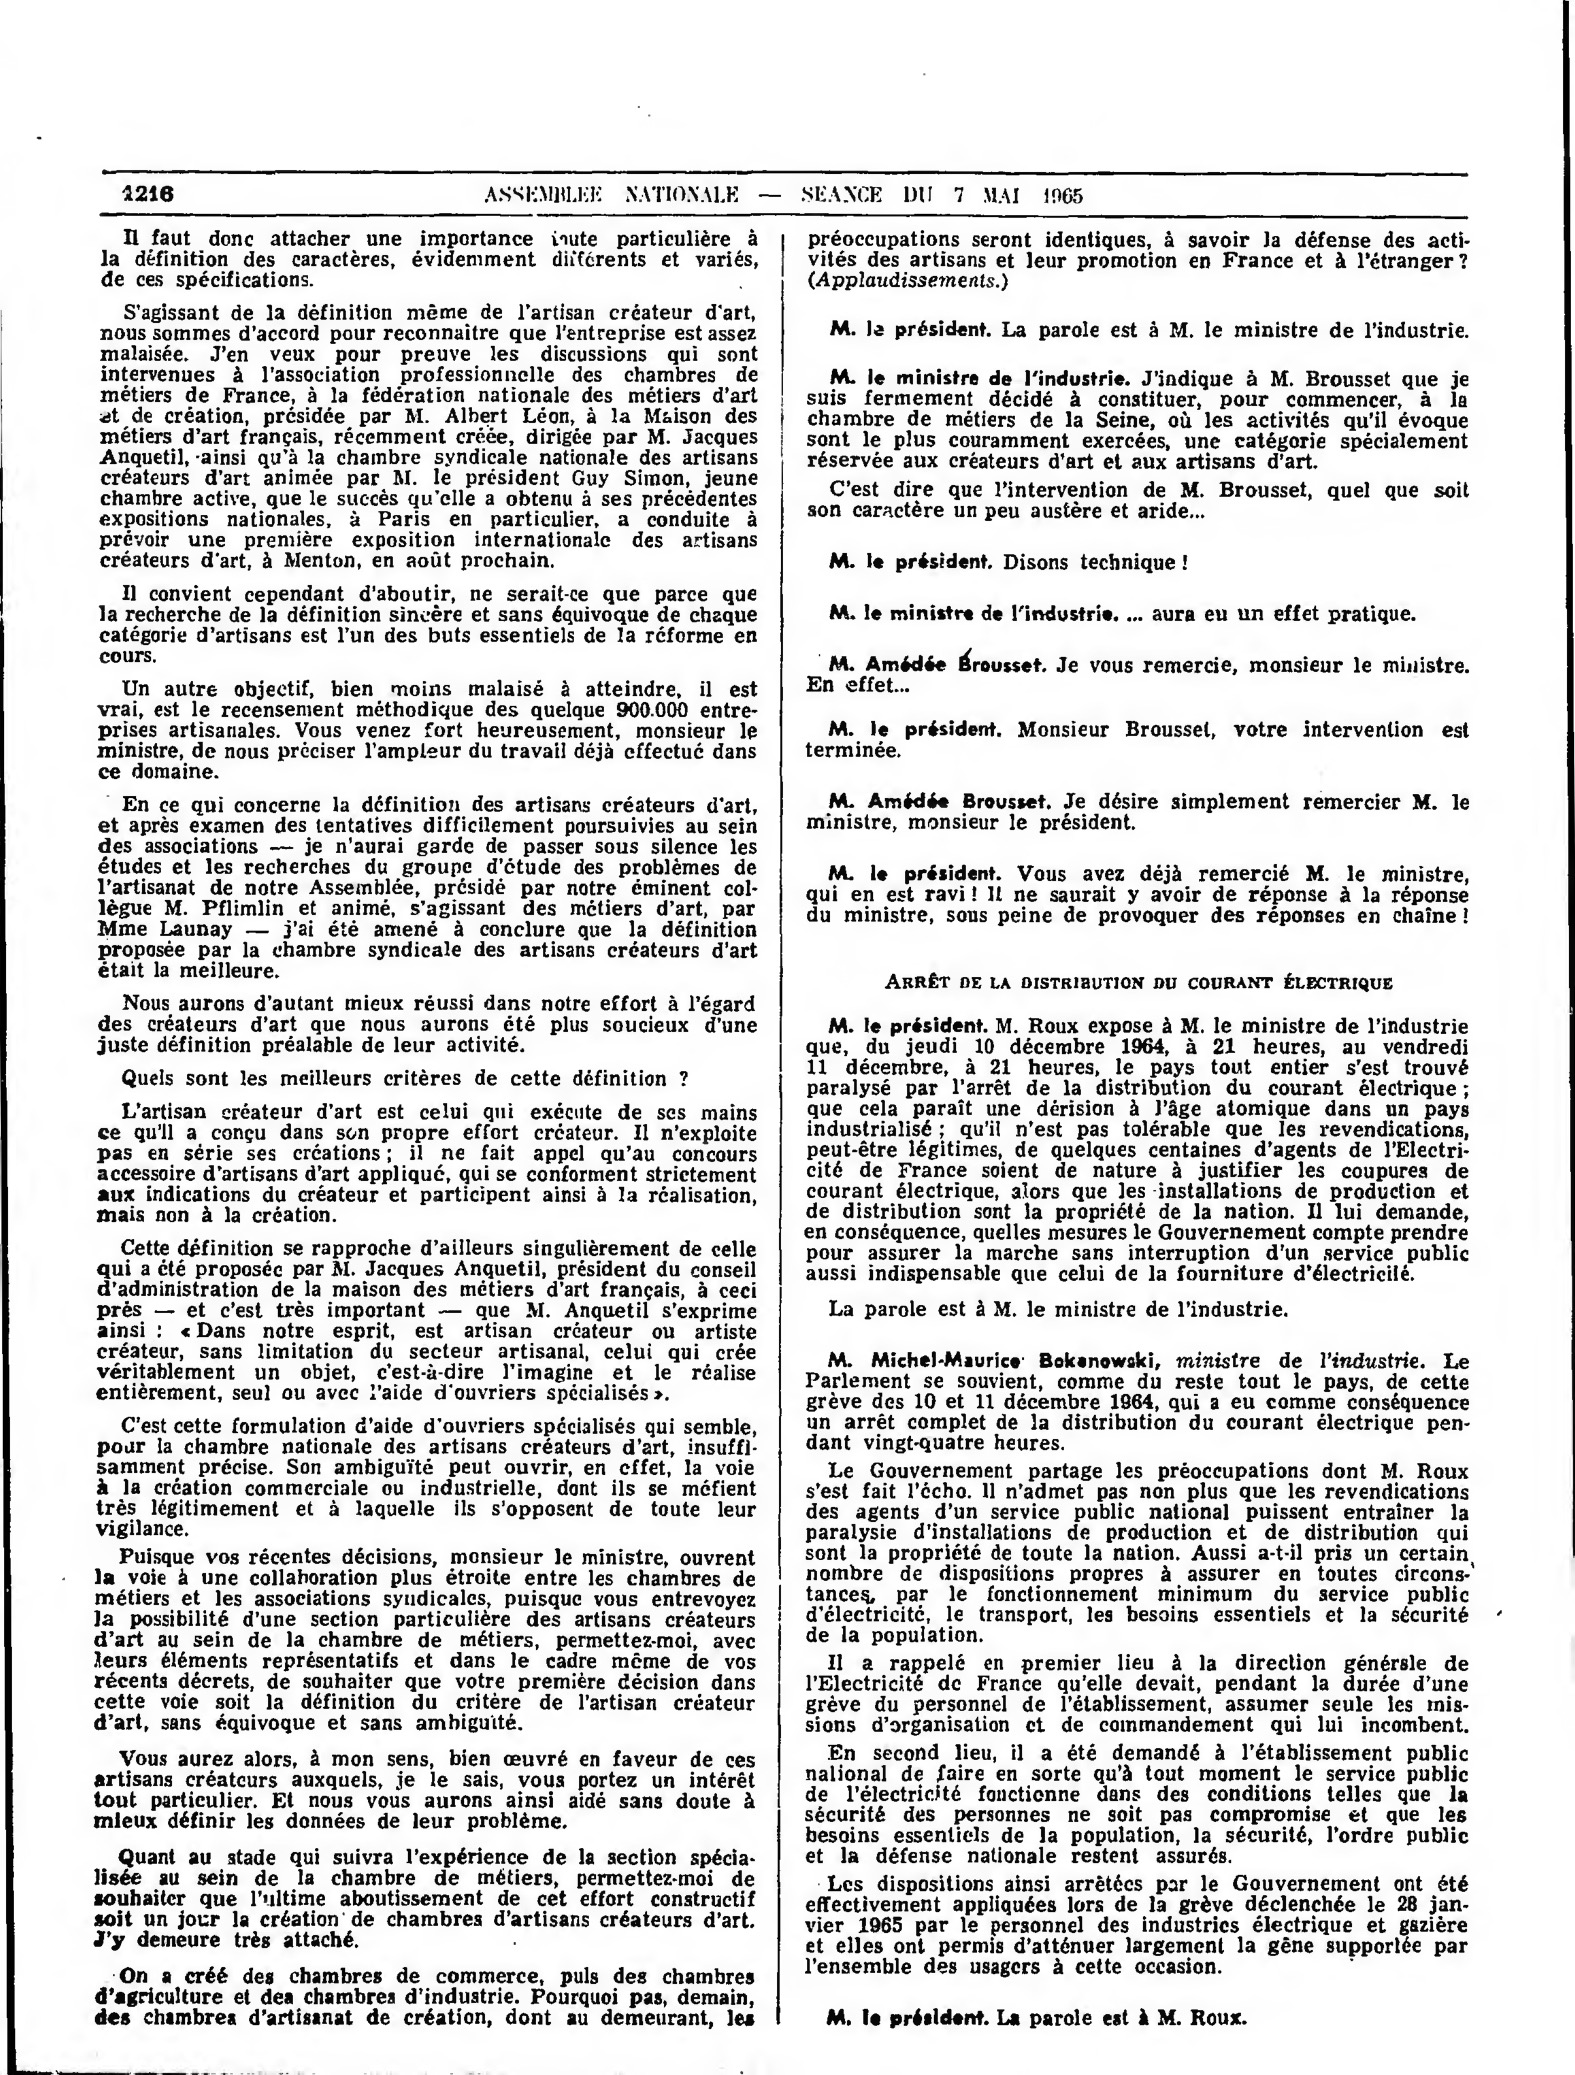MainZone-Continued: (799, 224, 1475, 300)
MainZone-Head: (872, 963, 1403, 999)
MainZone-P: (799, 1010, 1473, 1286), (92, 299, 764, 574), (86, 1542, 760, 1737), (90, 792, 760, 985), (801, 1458, 1475, 1648), (88, 1232, 762, 1407), (89, 1097, 763, 1229), (799, 1739, 1475, 1869), (88, 1411, 761, 1540), (800, 363, 1477, 475), (798, 1870, 1474, 1982), (89, 674, 763, 786), (85, 1843, 758, 1954), (799, 1346, 1473, 1456), (85, 1744, 760, 1837), (90, 580, 759, 670), (799, 1649, 1475, 1738), (798, 856, 1479, 939), (84, 1962, 761, 2036), (91, 222, 767, 296), (87, 988, 758, 1060), (800, 649, 1475, 709), (799, 715, 1482, 772), (799, 476, 1476, 532), (798, 787, 1482, 841), (806, 312, 1475, 350), (813, 596, 1425, 634), (86, 1061, 752, 1095), (799, 1290, 1314, 1327), (814, 2000, 1254, 2036), (814, 543, 1204, 582)
StampZone: (476, 177, 1100, 211)
TitlePageZone: (116, 180, 178, 208)
